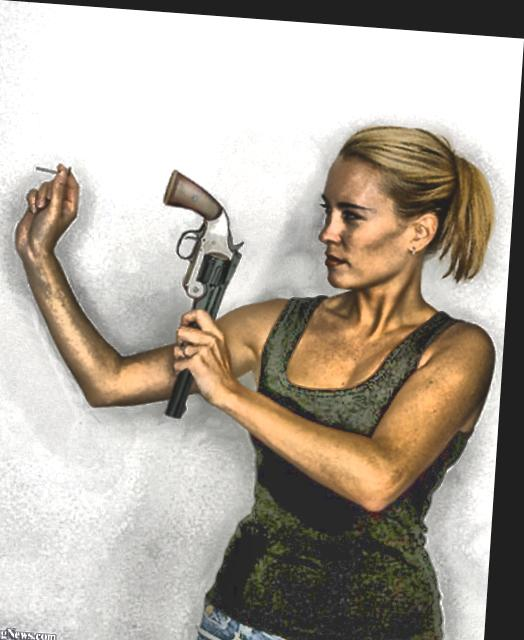pistol: (142, 160, 251, 419)
